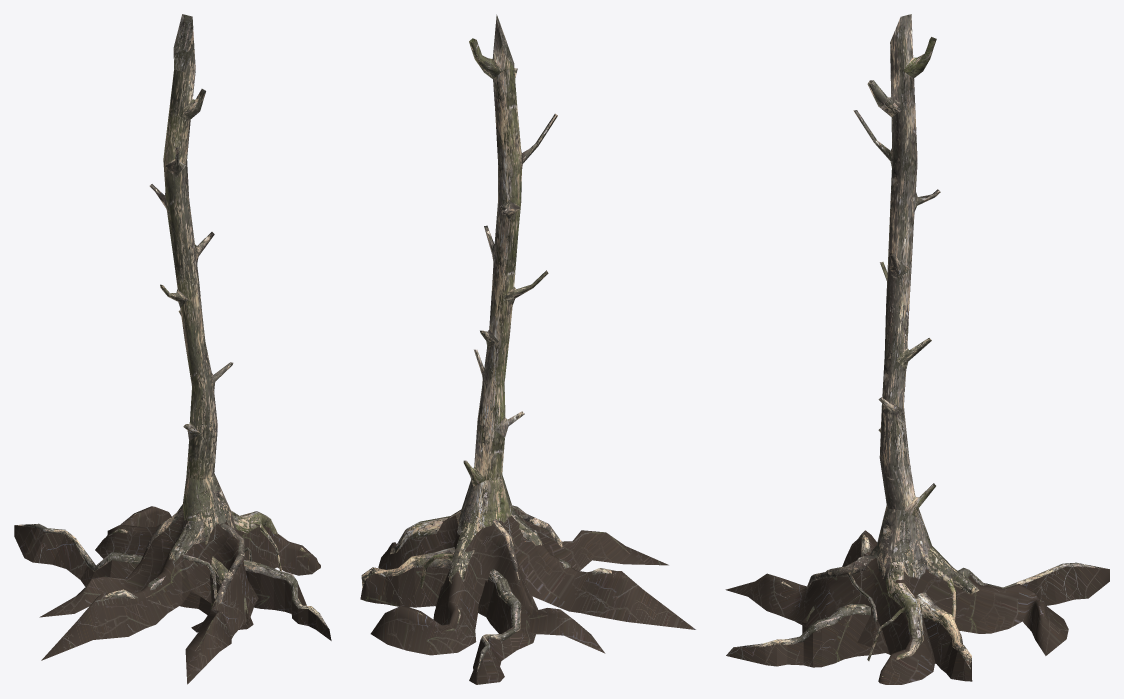
The model's file is SM_Tree_03.fbx.
3 views of the same model, side by side, from view 1: azimuth 30°, elevation 25°; view 2: azimuth 150°, elevation 25°; view 3: azimuth 270°, elevation 25° (orthographic). The views are drawn at different scales.
Visible parts, largest first — view 1: SM_Tree_03; view 2: SM_Tree_03; view 3: SM_Tree_03.
Boxes of the visible parts, x1=… form: SM_Tree_03: x1=14, y1=14, x2=331, y2=684; SM_Tree_03: x1=360, y1=14, x2=695, y2=684; SM_Tree_03: x1=725, y1=14, x2=1109, y2=684.
Size of the model in its own units: 421 by 448 by 795.
2 materials, 2 textured.
